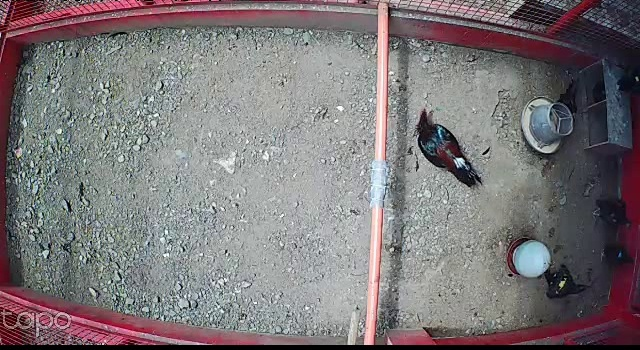Chicken: (586, 192, 638, 233), (540, 263, 589, 301), (597, 240, 640, 274), (556, 75, 582, 118)
Rooster: (414, 105, 484, 189)
Saddle_Color_Blue: (617, 251, 623, 257)
Saddle_Color_Yellow: (557, 276, 567, 291)
